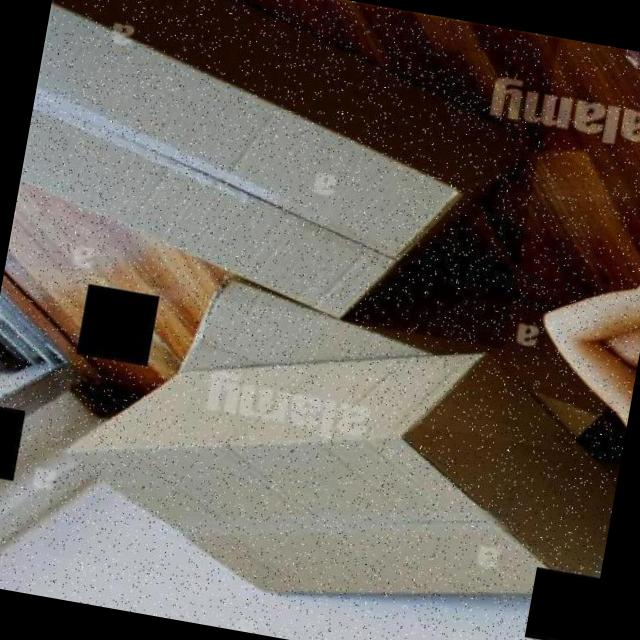box: (41, 277, 635, 640), (7, 0, 558, 349), (125, 209, 640, 460)
